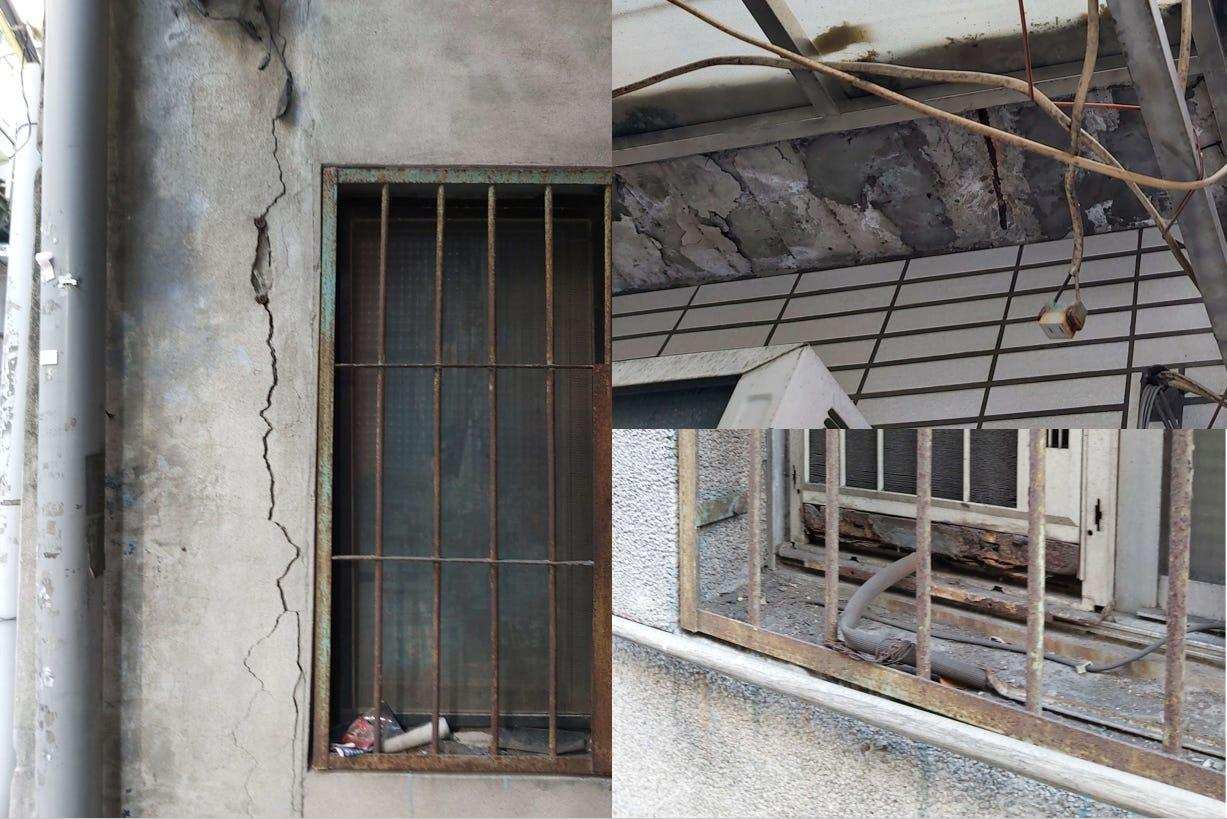Crack: (220, 0, 328, 819)
